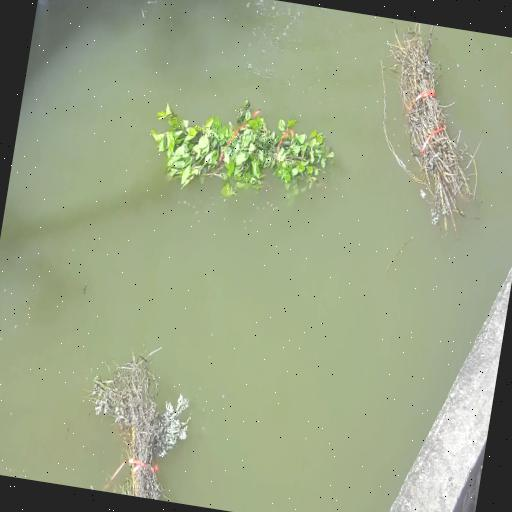twig: (357, 18, 503, 220), (142, 76, 345, 216), (77, 324, 206, 503)
